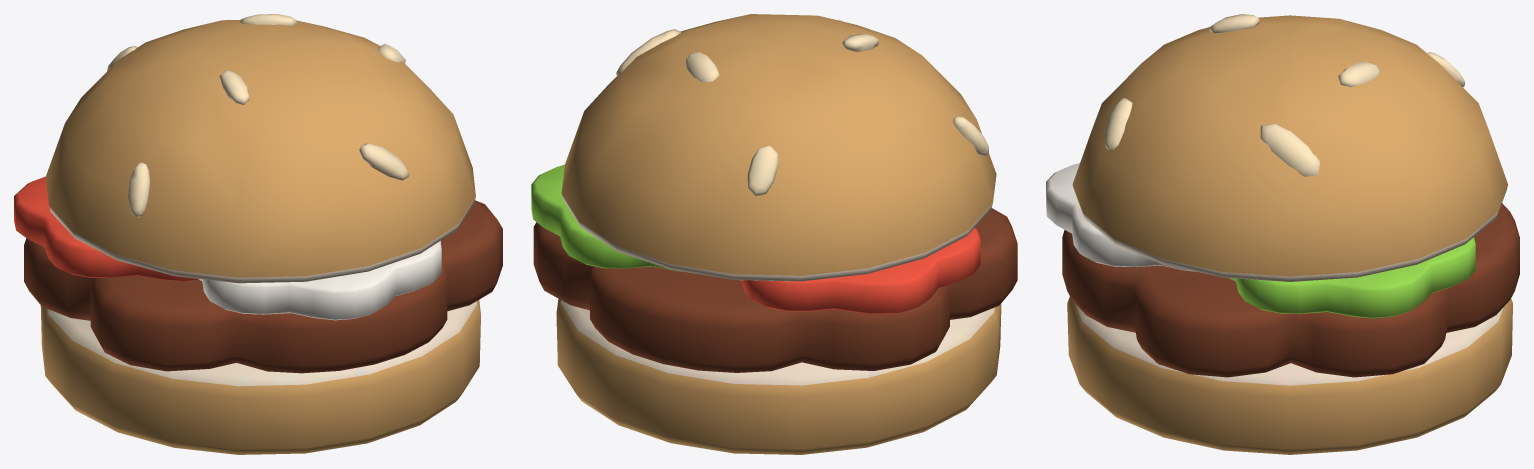
Rendered from krabbypatty.glb.
3 views of the same model, side by side, from view 1: azimuth 30°, elevation 25°; view 2: azimuth 150°, elevation 25°; view 3: azimuth 270°, elevation 25° (orthographic).
Parts seen in each view (by area): view 1: sm_krabbypatty; view 2: sm_krabbypatty; view 3: sm_krabbypatty.
Part boxes in pixels (left/top/right/bottom): sm_krabbypatty: left=14, top=14, right=502, bottom=454; sm_krabbypatty: left=531, top=14, right=1017, bottom=454; sm_krabbypatty: left=1046, top=14, right=1519, bottom=454.
Size of the model in its own units: 1.95 by 1.52 by 2.
1 material, 1 textured.
